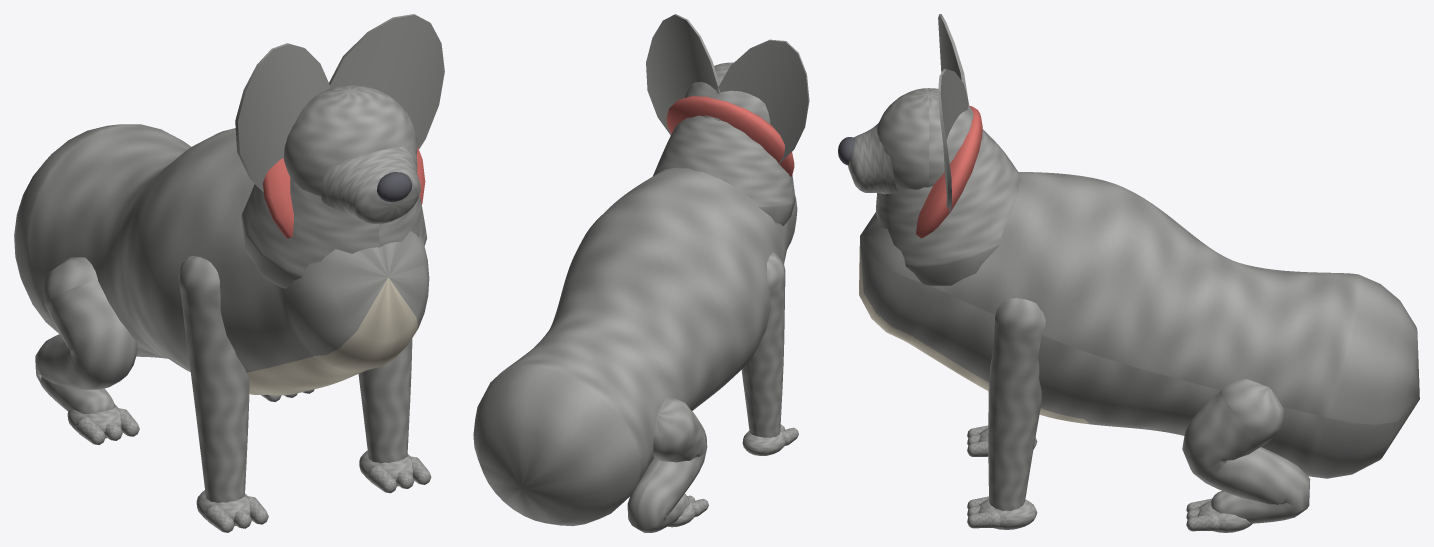
The model's file is pets-and-companions-hd-french-bulldog-sitting-9ebd2c60__28139.glb.
3 views of the same model, side by side, from view 1: azimuth 30°, elevation 25°; view 2: azimuth 150°, elevation 25°; view 3: azimuth 270°, elevation 25° (orthographic). The views are drawn at different scales.
Visible parts, largest first — view 1: french-bulldog-sitting; view 2: french-bulldog-sitting; view 3: french-bulldog-sitting.
Part boxes in pixels (box(x1,y1,x2,y2)): french-bulldog-sitting: box(14, 14, 444, 532); french-bulldog-sitting: box(473, 14, 809, 532); french-bulldog-sitting: box(838, 14, 1419, 532).
Bounding box in the file's own units: 0.2281 × 0.4415 × 0.5223.
Materials: 4 (2 with a texture image).
